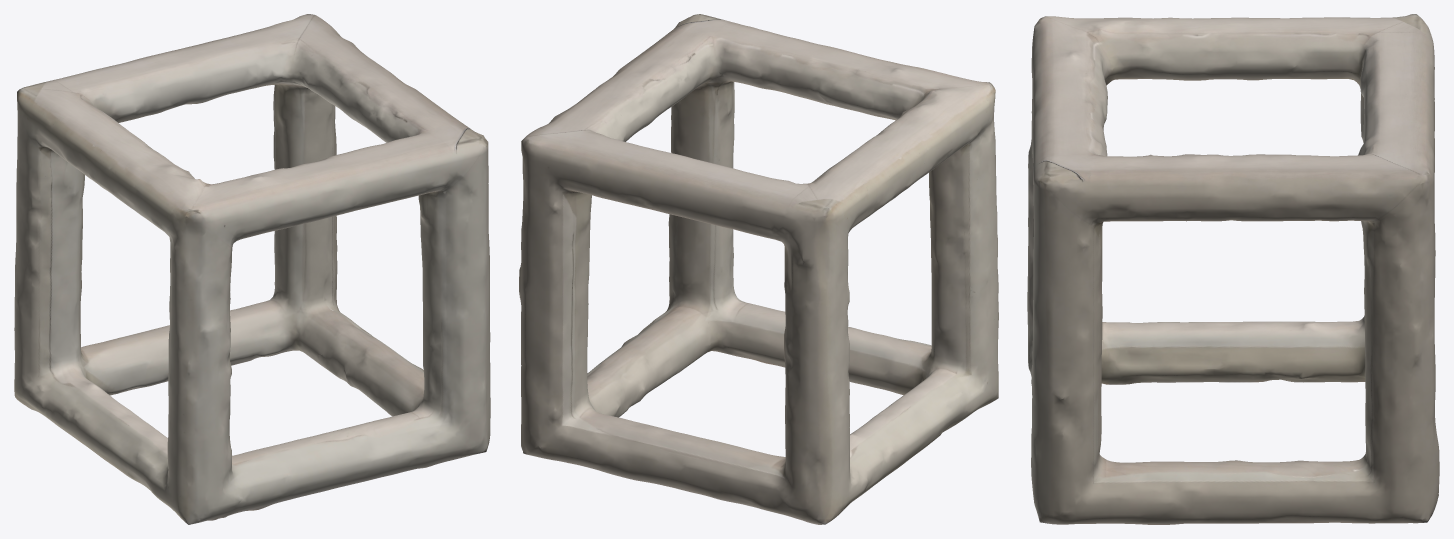
Rendered from interior_white_square_box_straight_lines_windows_on_two_sid_0606191936_refine.fbx.
The picture shows the model from 3 angles, left to right: view 1: azimuth 30°, elevation 25°; view 2: azimuth 150°, elevation 25°; view 3: azimuth 270°, elevation 25°; orthographic projection. The views are drawn at different scales.
Visible parts, largest first — view 1: Mesh_0; view 2: Mesh_0; view 3: Mesh_0.
Boxes of the visible parts, <box> form: Mesh_0: <box>14,14,490,524</box>; Mesh_0: <box>519,14,998,524</box>; Mesh_0: <box>1027,14,1439,524</box>.
Bounding box in the file's own units: 120 × 116 × 120.
1 material, 1 textured.
